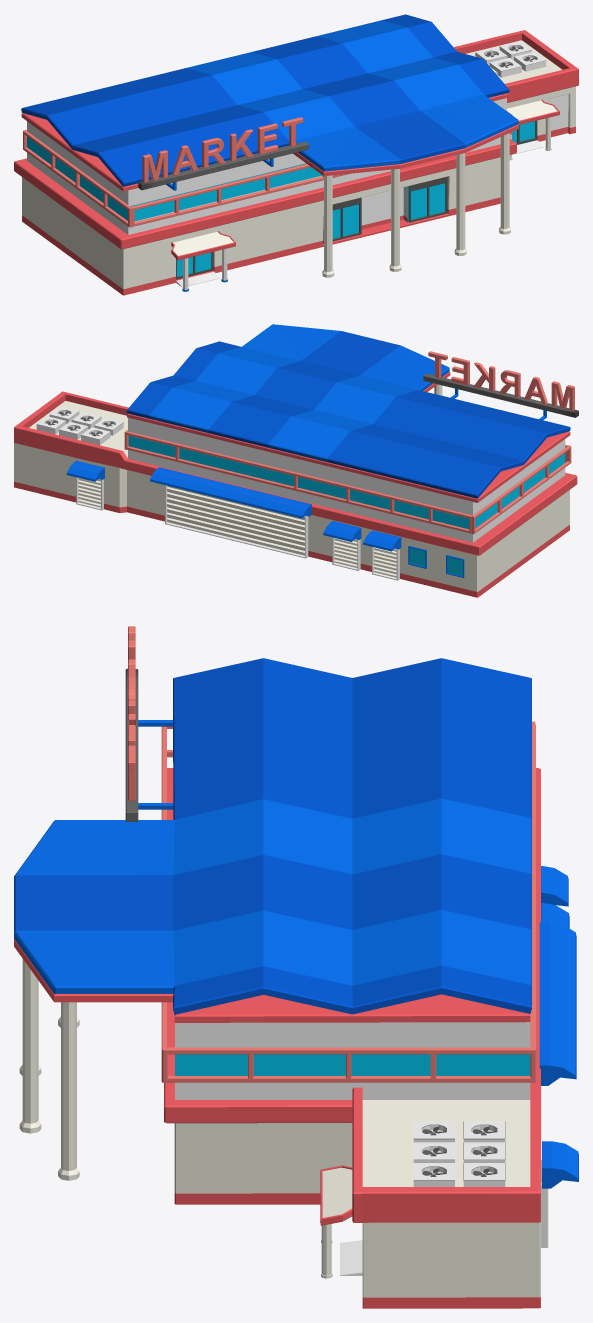
File: Market.fbx
The picture shows the model from 3 angles, top to bottom: view 1: azimuth 30°, elevation 25°; view 2: azimuth 150°, elevation 25°; view 3: azimuth 270°, elevation 25°; orthographic projection. The views are drawn at different scales.
Parts seen in each view (by area): view 1: Market; view 2: Market; view 3: Market.
Part boxes in pixels (x1=…): Market: x1=14, y1=14, x2=578, y2=295; Market: x1=14, y1=324, x2=578, y2=597; Market: x1=14, y1=626, x2=578, y2=1308.
Size of the model in its own units: 3681 by 1006 by 2007.
1 material, 1 textured.
